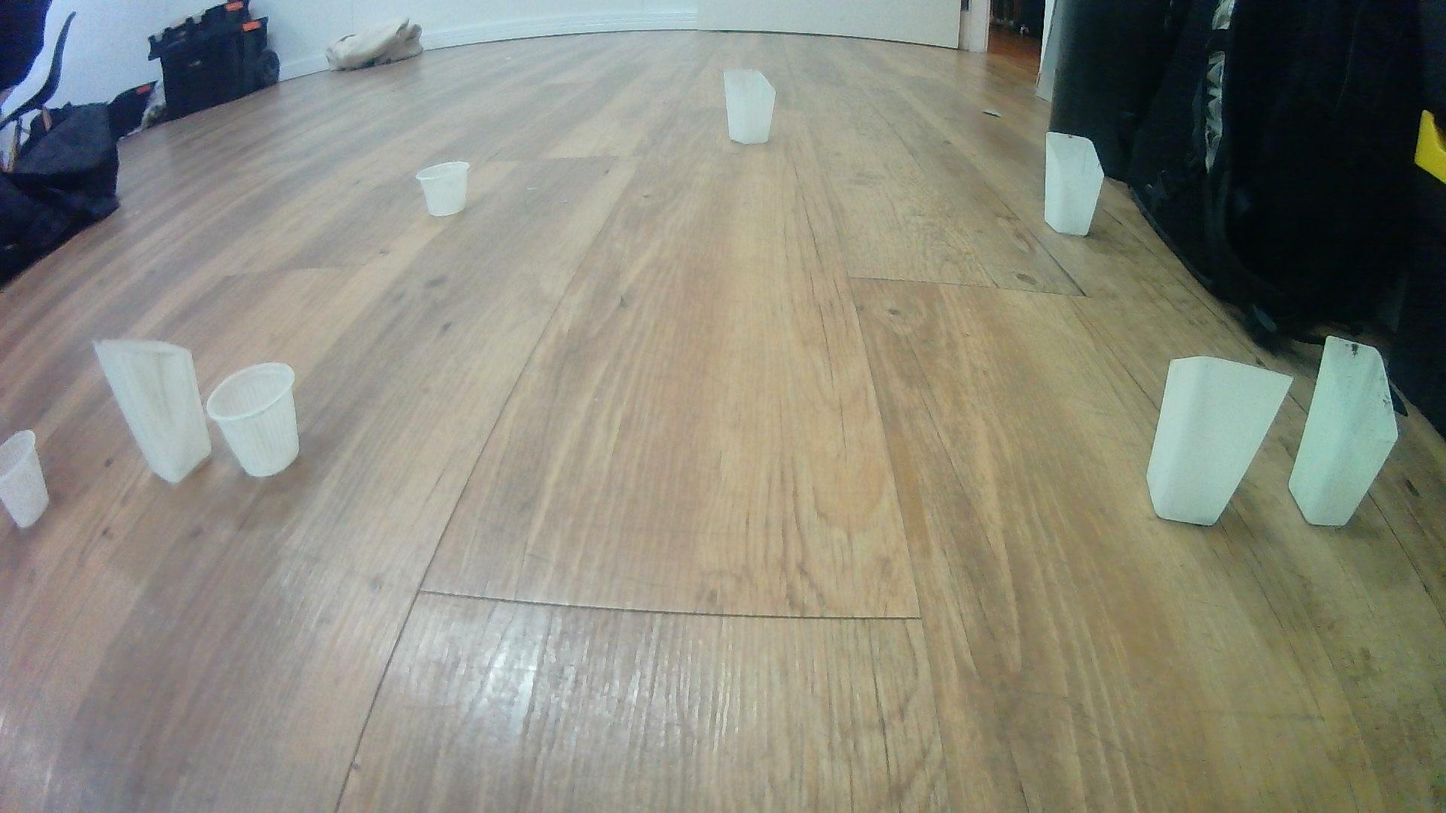erva_daninha: (1142, 353, 1296, 528), (1286, 333, 1399, 528), (90, 334, 212, 486), (1040, 129, 1106, 238), (721, 66, 778, 145)
planta: (206, 361, 301, 478), (0, 428, 52, 531), (415, 160, 471, 218)
